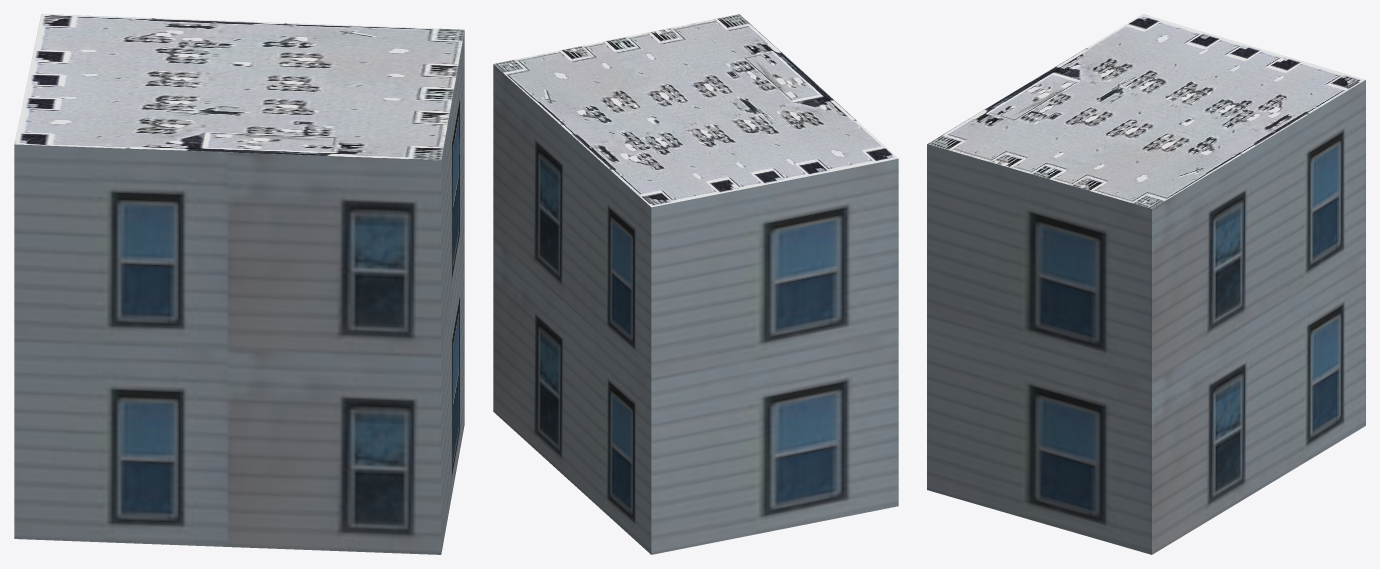
File: ResTex__3862.fbx
3 views of the same model, side by side, from view 1: azimuth 30°, elevation 25°; view 2: azimuth 150°, elevation 25°; view 3: azimuth 270°, elevation 25° (orthographic). The views are drawn at different scales.
Parts seen in each view (by area): view 1: CityEngineMaterial_18_m, CityEngineMaterial_4_m; view 2: CityEngineMaterial_18_m, CityEngineMaterial_4_m; view 3: CityEngineMaterial_18_m, CityEngineMaterial_4_m.
Part boxes in pixels (x1,y1,x2,y2): CityEngineMaterial_18_m: (14,31,464,554); CityEngineMaterial_4_m: (14,14,464,160); CityEngineMaterial_18_m: (493,64,898,554); CityEngineMaterial_4_m: (493,14,898,207); CityEngineMaterial_18_m: (927,80,1365,554); CityEngineMaterial_4_m: (927,14,1365,208).
Bounding box in the file's own units: 7.25 × 6 × 6.89.
Materials: 2 (2 with a texture image).
